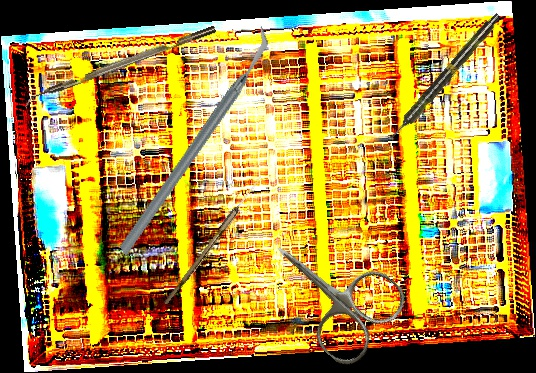Chopper: (59, 23, 328, 259), (21, 25, 220, 112)
Handpiece: (386, 10, 504, 143)
Iris Scissors: (246, 209, 414, 373)
Surgical Spoon: (163, 172, 265, 308)
